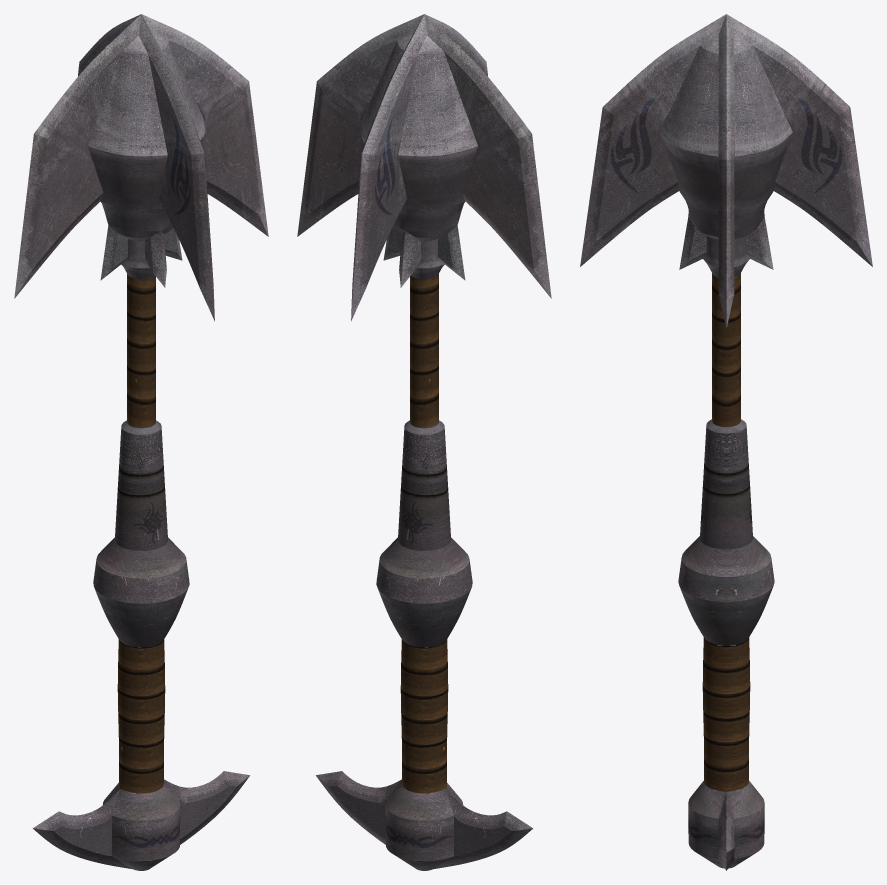
The model's file is BattleMace_Quandtum.fbx.
3 renders of one model, left to right at view 1: azimuth 30°, elevation 25°; view 2: azimuth 150°, elevation 25°; view 3: azimuth 270°, elevation 25°, orthographic.
Visible parts, largest first — view 1: Mace.HiPoly; view 2: Mace.HiPoly; view 3: Mace.HiPoly.
Part boxes in pixels (x1=…): Mace.HiPoly: x1=14, y1=14, x2=268, y2=870; Mace.HiPoly: x1=297, y1=14, x2=551, y2=870; Mace.HiPoly: x1=580, y1=14, x2=872, y2=870.
Size of the model in its own units: 1.11 by 3.56 by 1.11.
